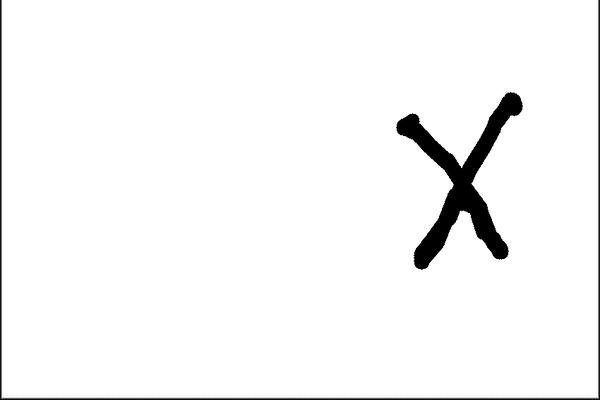X: (378, 80, 530, 280)
